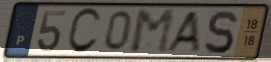0: (102, 9, 136, 53)
5: (36, 8, 69, 53)
A: (162, 9, 202, 55)
C: (65, 6, 104, 56)
M: (129, 8, 177, 56)
S: (202, 8, 239, 56)
